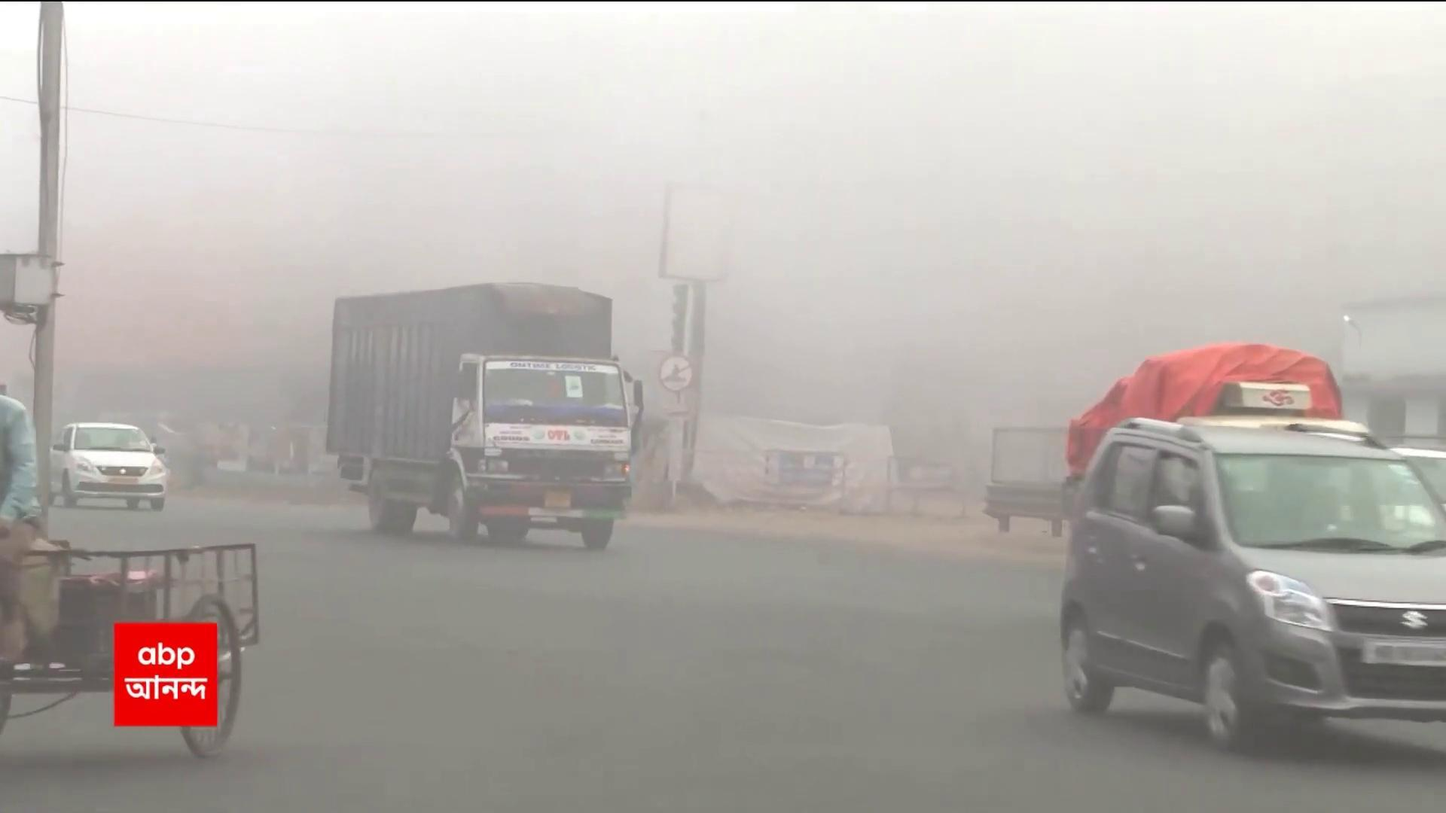Car: (52, 422, 172, 512)
Truck: (321, 277, 648, 554)
